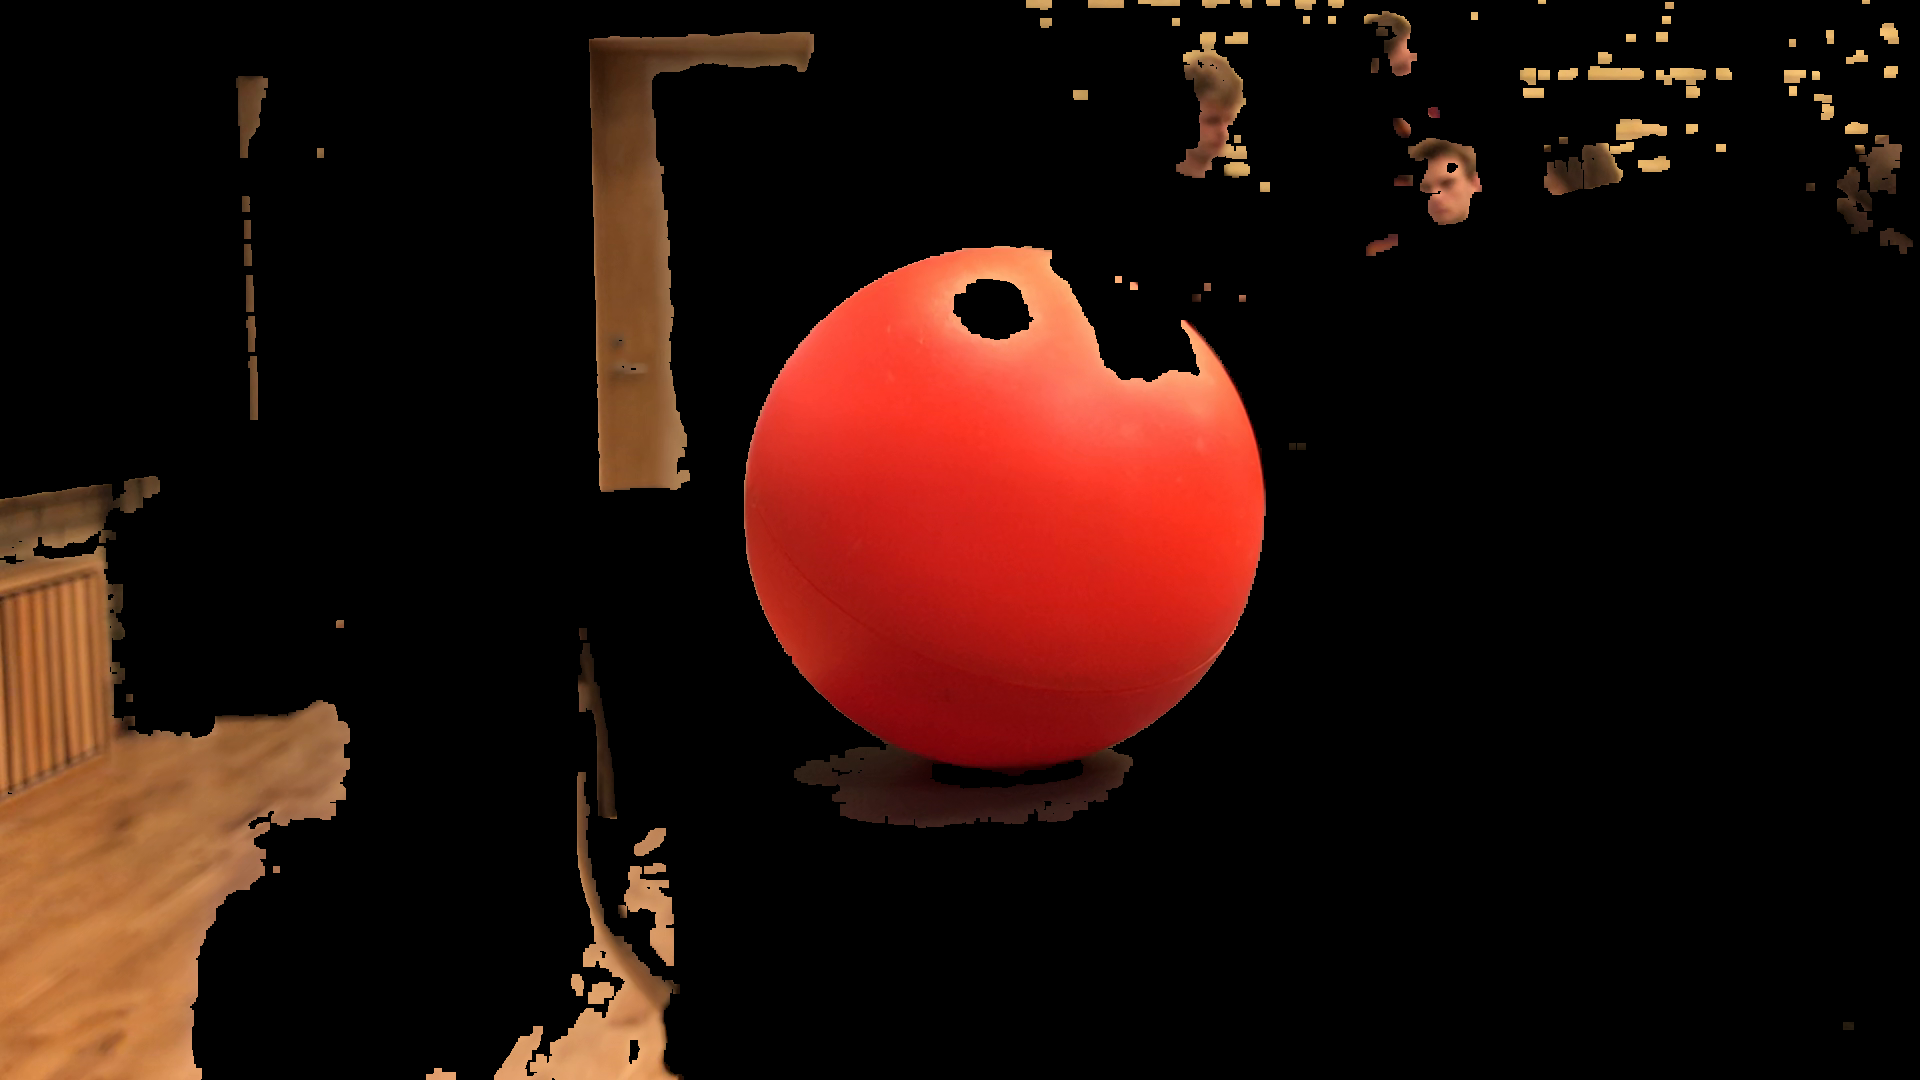Ball: (746, 247, 1276, 765)
